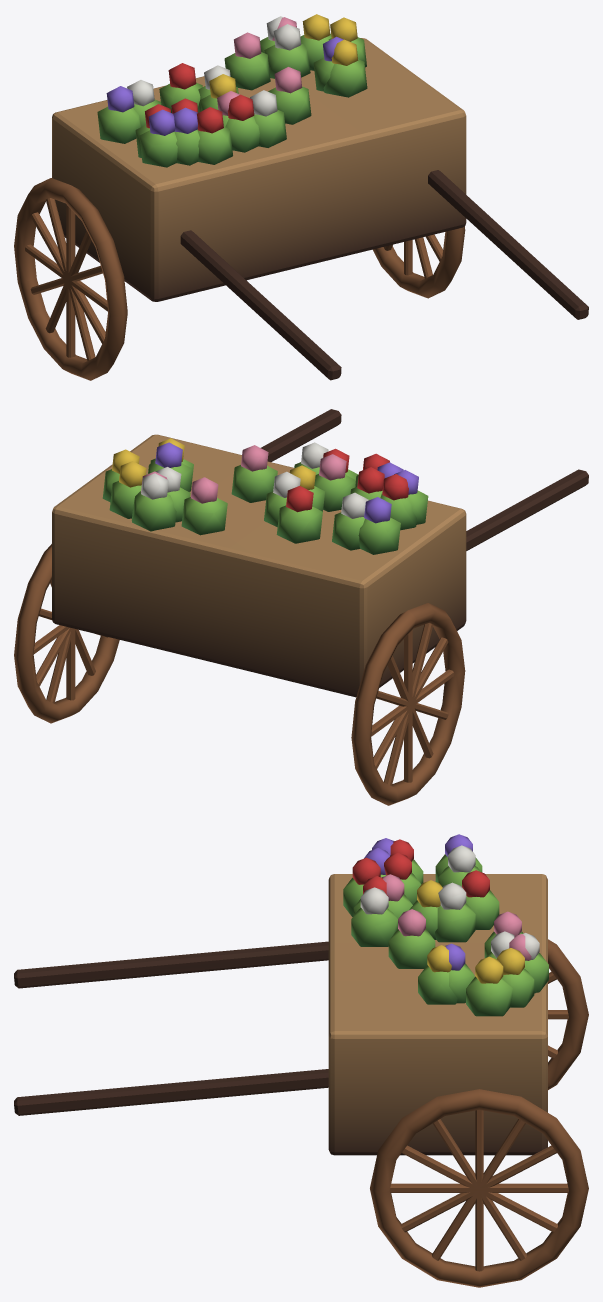
File: flower_cart.glb
3 renders of one model, top to bottom at view 1: azimuth 30°, elevation 25°; view 2: azimuth 150°, elevation 25°; view 3: azimuth 270°, elevation 25°, orthographic. The views are drawn at different scales.
Visible parts, largest first — view 1: Body, WheelLMesh, WheelRMesh; view 2: Body, WheelLMesh, WheelRMesh; view 3: Body, WheelRMesh, WheelLMesh.
Part boxes in pixels (<box>): Body: <box>52,14,588,380</box>; WheelLMesh: <box>14,178,127,380</box>; WheelRMesh: <box>373,226,465,298</box>; Body: <box>52,409,588,697</box>; WheelLMesh: <box>351,603,465,805</box>; WheelRMesh: <box>14,544,119,723</box>; Body: <box>14,834,548,1155</box>; WheelRMesh: <box>370,1089,588,1287</box>; WheelLMesh: <box>548,939,588,1089</box>.
Size of the model in its own units: 1.58 by 1.21 by 2.1.
